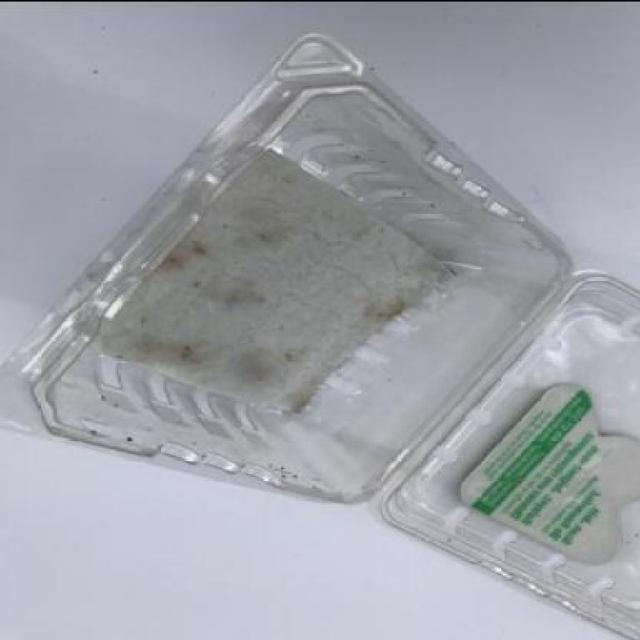PLASTIC: (1, 32, 640, 638), (2, 36, 575, 507), (374, 266, 640, 639)
